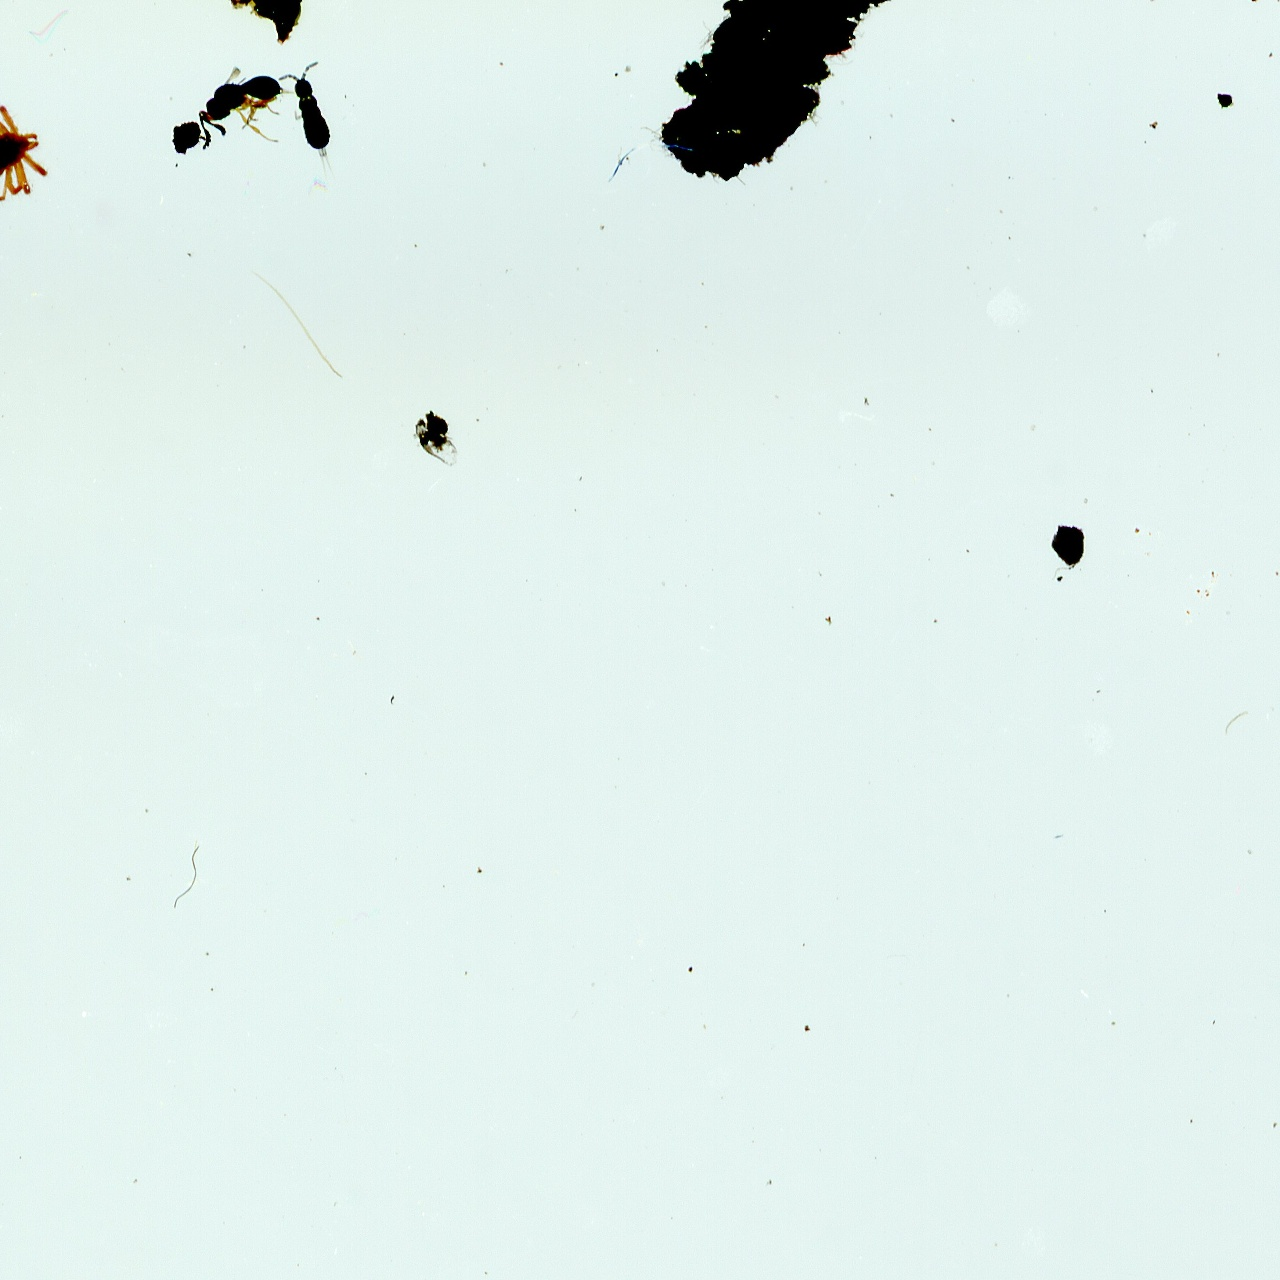arthropod: (173, 46, 314, 176), (274, 56, 360, 196), (0, 90, 66, 215)
